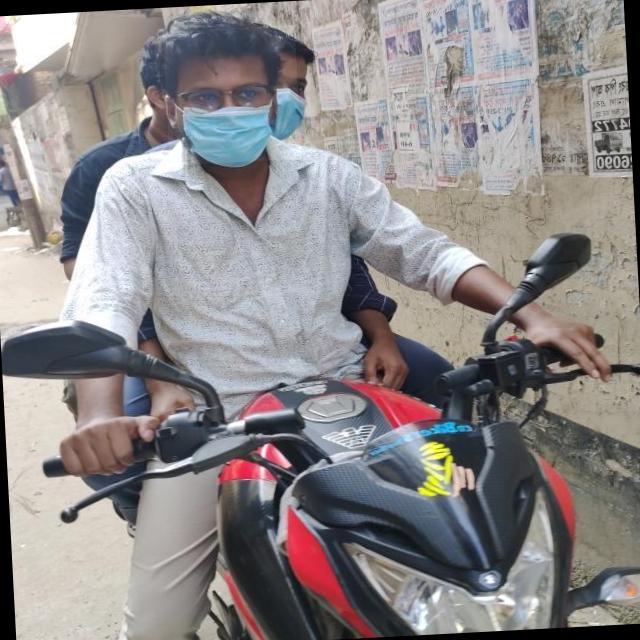without helmet: (163, 25, 301, 166)
